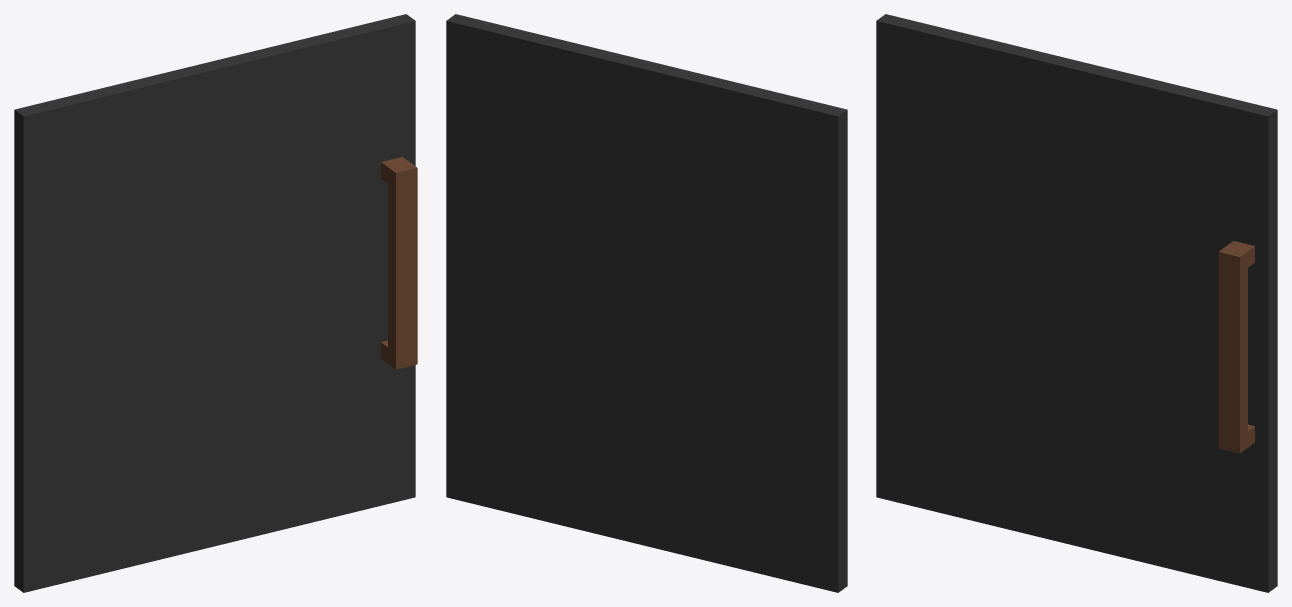
Rendered from Expositor_Door_2.obj.
3 views of the same model, side by side, from view 1: azimuth 30°, elevation 25°; view 2: azimuth 150°, elevation 25°; view 3: azimuth 330°, elevation 25° (orthographic).
Visible parts, largest first — view 1: Expositor_Door_2; view 2: Expositor_Door_2; view 3: Expositor_Door_2.
Boxes of the visible parts, x1,y1,x2,y2 form: Expositor_Door_2: (14,14,417,592); Expositor_Door_2: (446,14,847,592); Expositor_Door_2: (876,14,1277,592).
Size of the model in its own units: 0.662 by 0.7689 by 0.0716.
